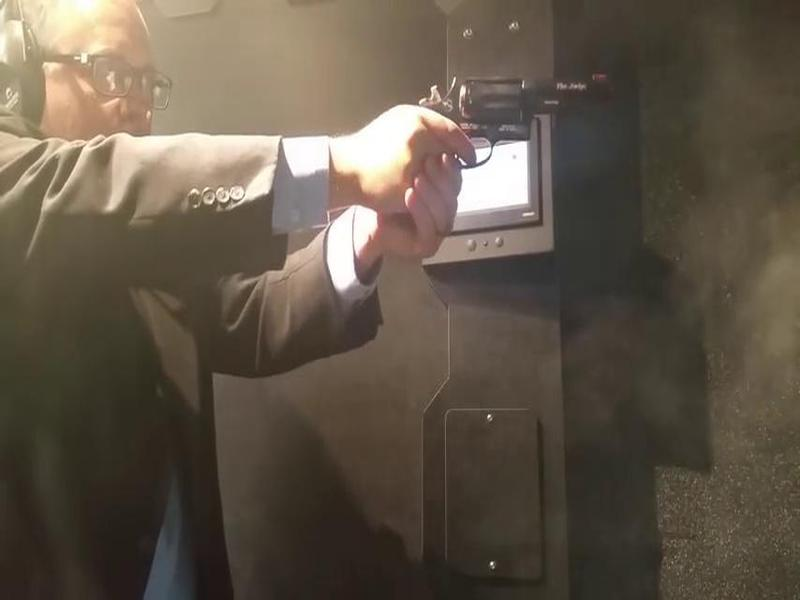Revolver: (403, 40, 617, 208)
